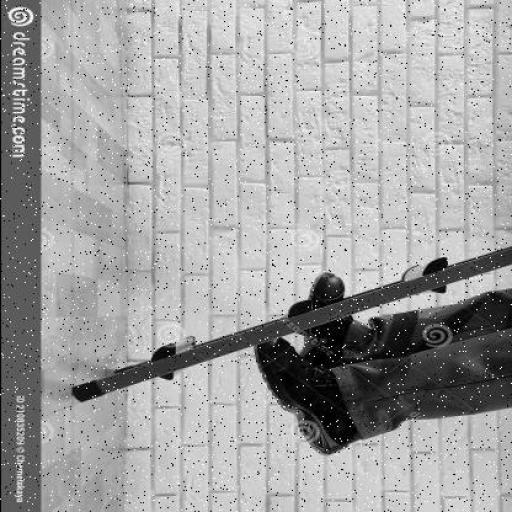safety_shoe: (264, 353, 346, 446)
